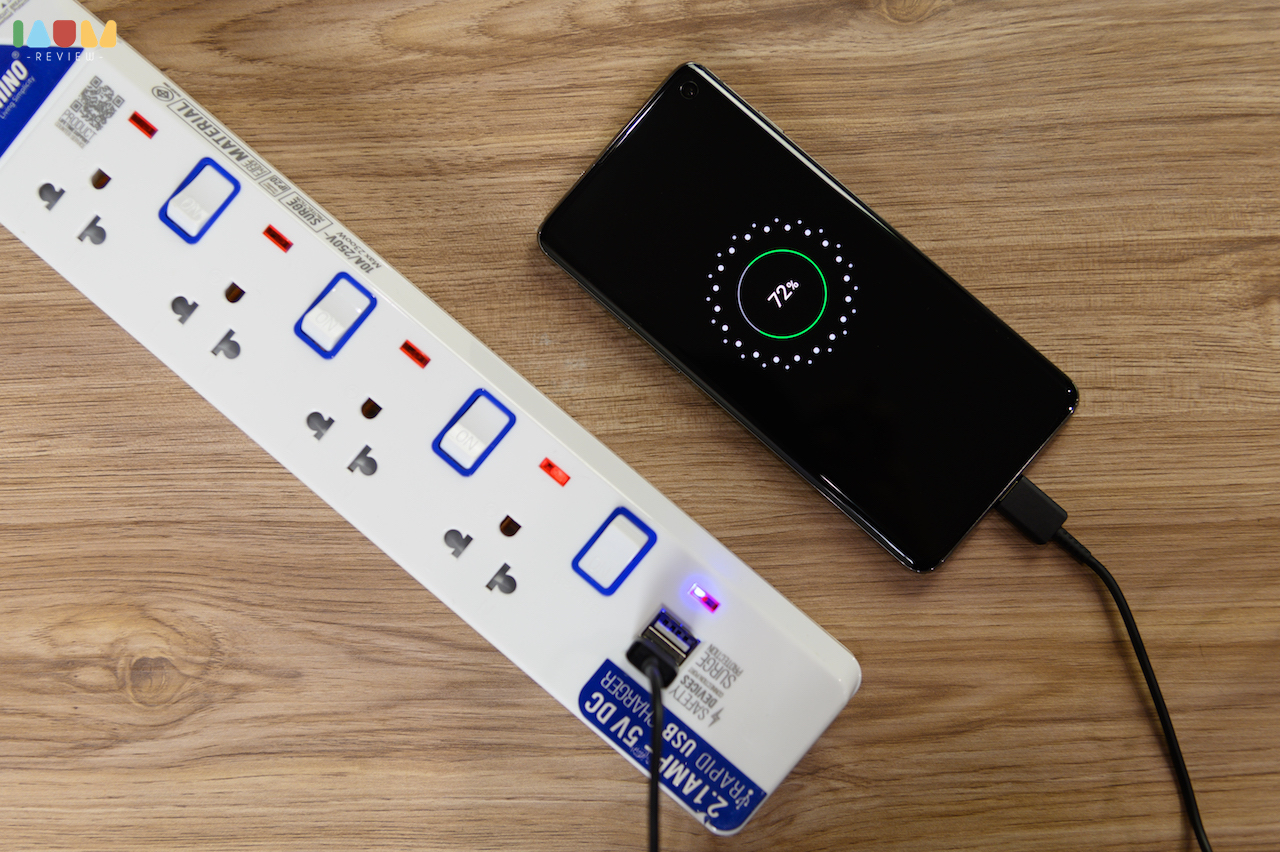Three_eye_plug: (1, 1, 867, 842)
